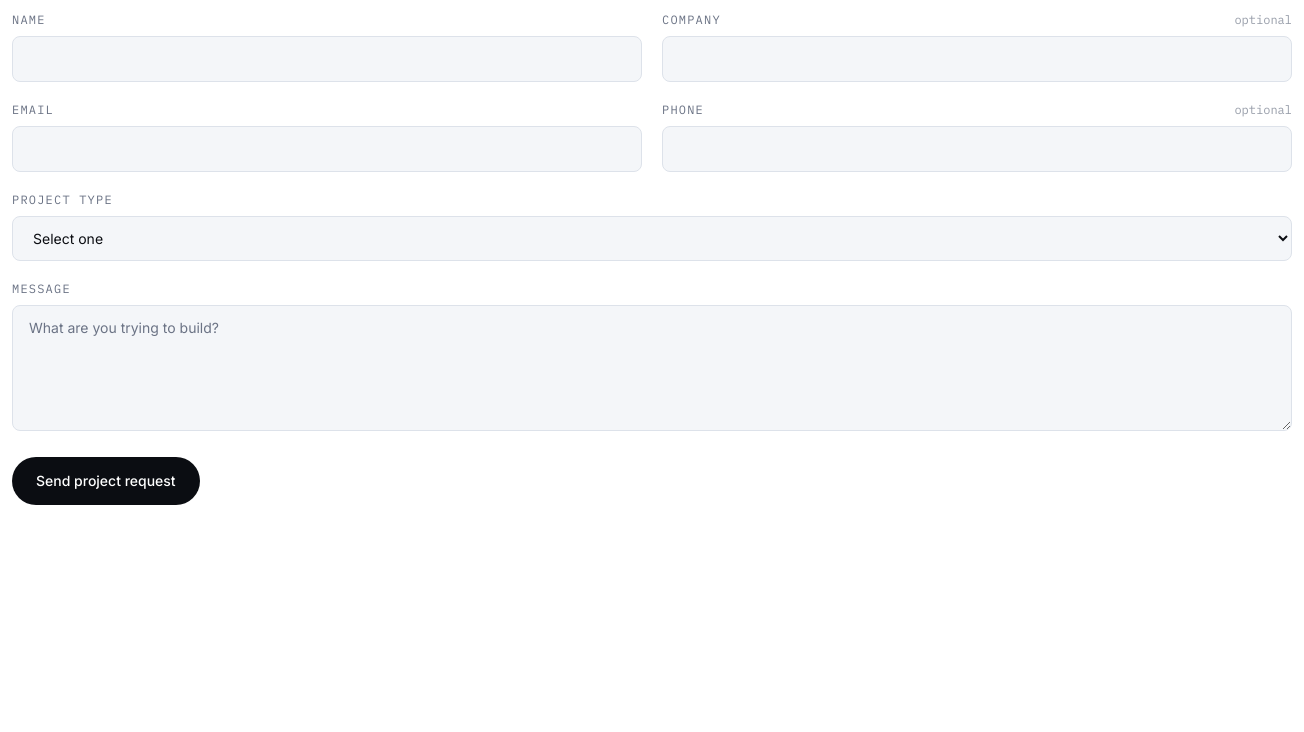
Test case: ContactForm › shows validation errors when submitted empty
Step 1. Click the button "Send project request" → (106, 481), box [12,457,200,505]
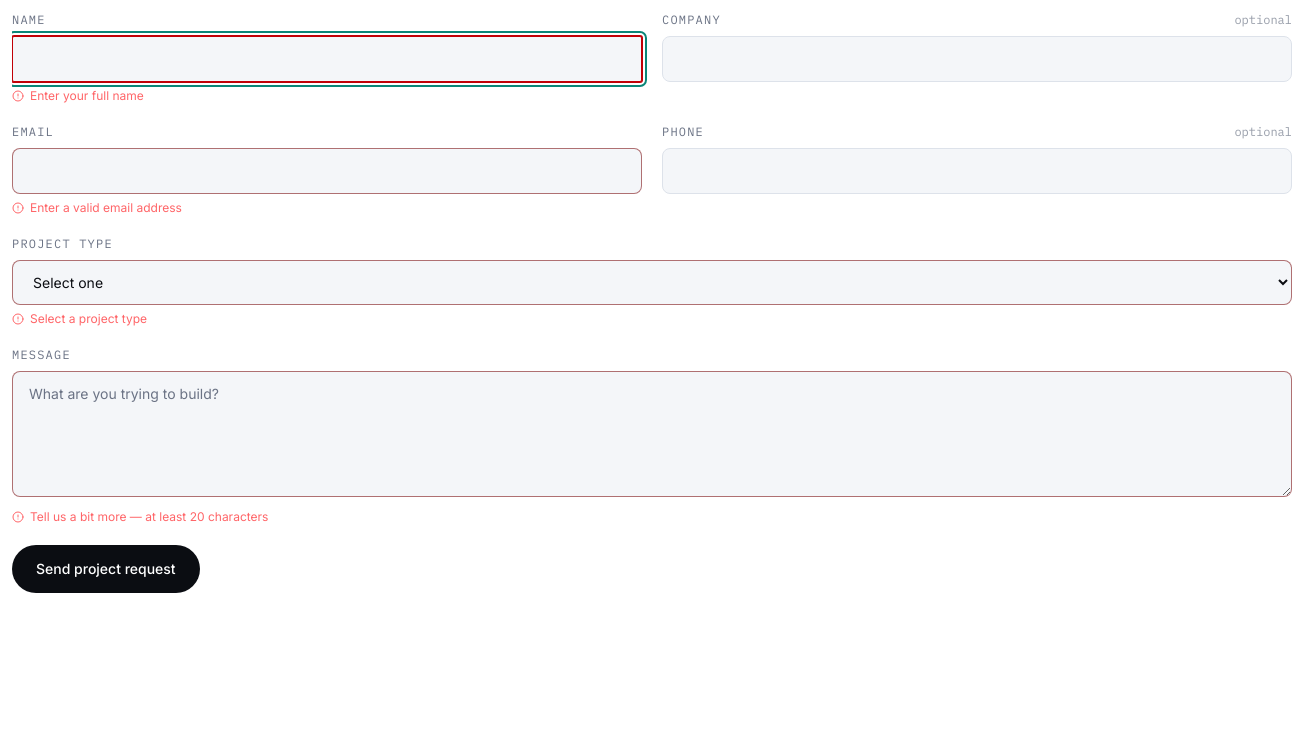
Result: the text "Enter your full name" is shown at [12,88,144,103]
Result: the text "Enter a valid email address" is shown at [12,200,182,215]
Result: the text "Select a project type" is shown at [12,311,147,326]
